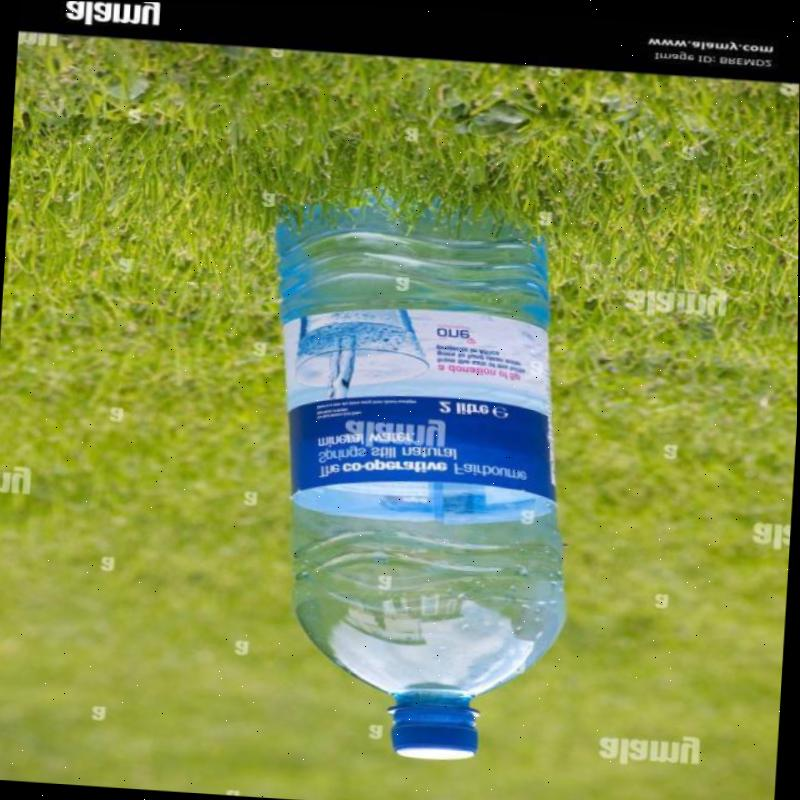botella: (232, 167, 596, 767)
